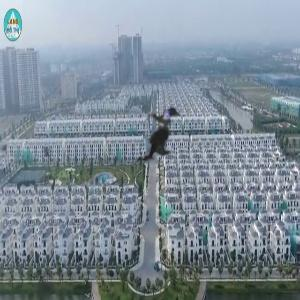drone: (46, 7, 292, 253)
